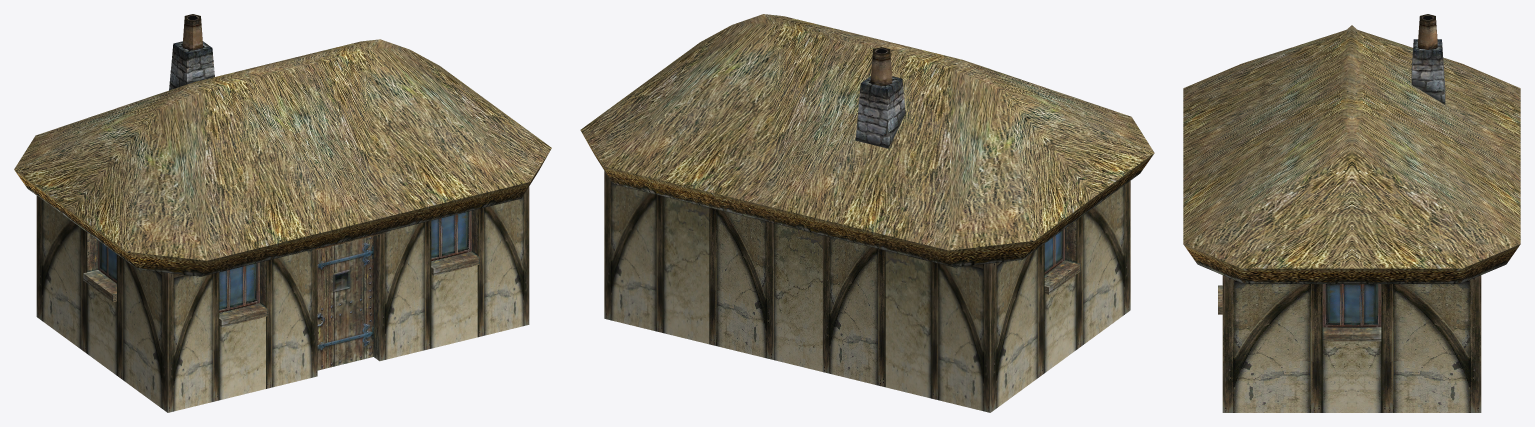
File: S_home22.glb
The picture shows the model from 3 angles, left to right: view 1: azimuth 30°, elevation 25°; view 2: azimuth 150°, elevation 25°; view 3: azimuth 270°, elevation 25°; orthographic projection. The views are drawn at different scales.
Parts seen in each view (by area): view 1: S_home22-col; view 2: S_home22-col; view 3: S_home22-col.
Boxes of the visible parts, x1,y1,x2,y2 form: S_home22-col: [14, 14, 551, 412]; S_home22-col: [580, 14, 1154, 412]; S_home22-col: [1183, 14, 1520, 412].
Bounding box in the file's own units: 8.24 × 5.32 × 5.74.
8 materials, 8 textured.
